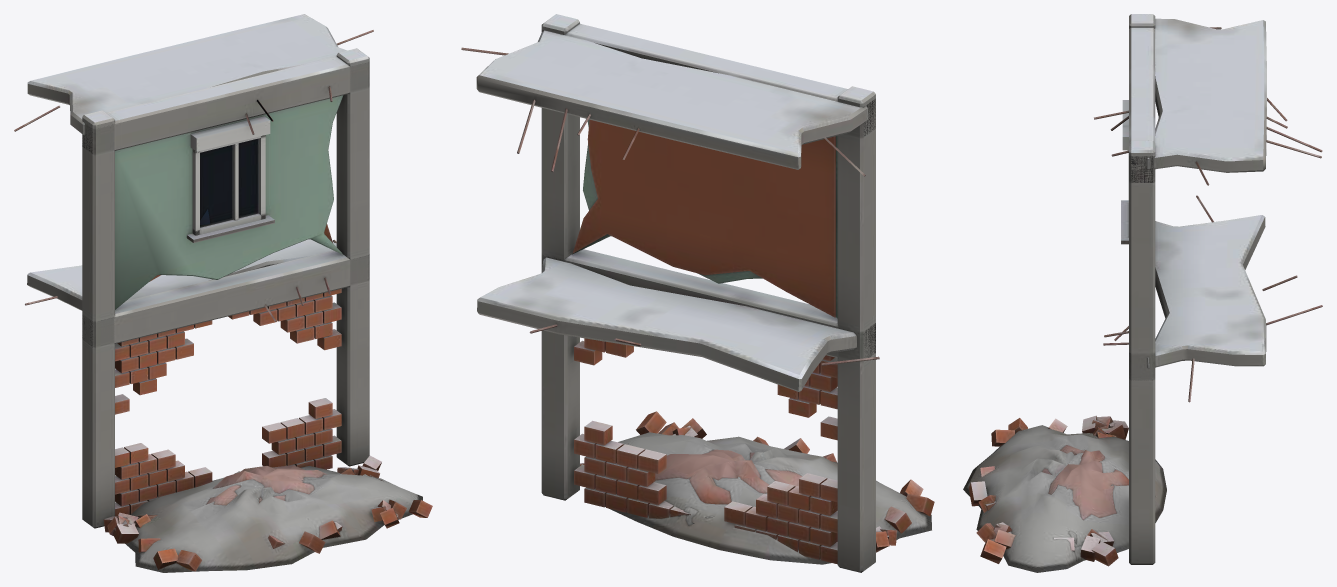
The model's file is bld_wall_frame.glb.
3 renders of one model, left to right at view 1: azimuth 30°, elevation 25°; view 2: azimuth 150°, elevation 25°; view 3: azimuth 270°, elevation 25°, orthographic. The views are drawn at different scales.
Parts seen in each view (by area): view 1: bld_wall_frame; view 2: bld_wall_frame; view 3: bld_wall_frame.
Boxes of the visible parts, x1,y1,x2,y2 form: bld_wall_frame: (14, 14, 432, 572); bld_wall_frame: (461, 14, 934, 572); bld_wall_frame: (963, 14, 1322, 572).
Size of the model in its own units: 5.56 by 6.19 by 4.8.
1 material, 1 textured.
